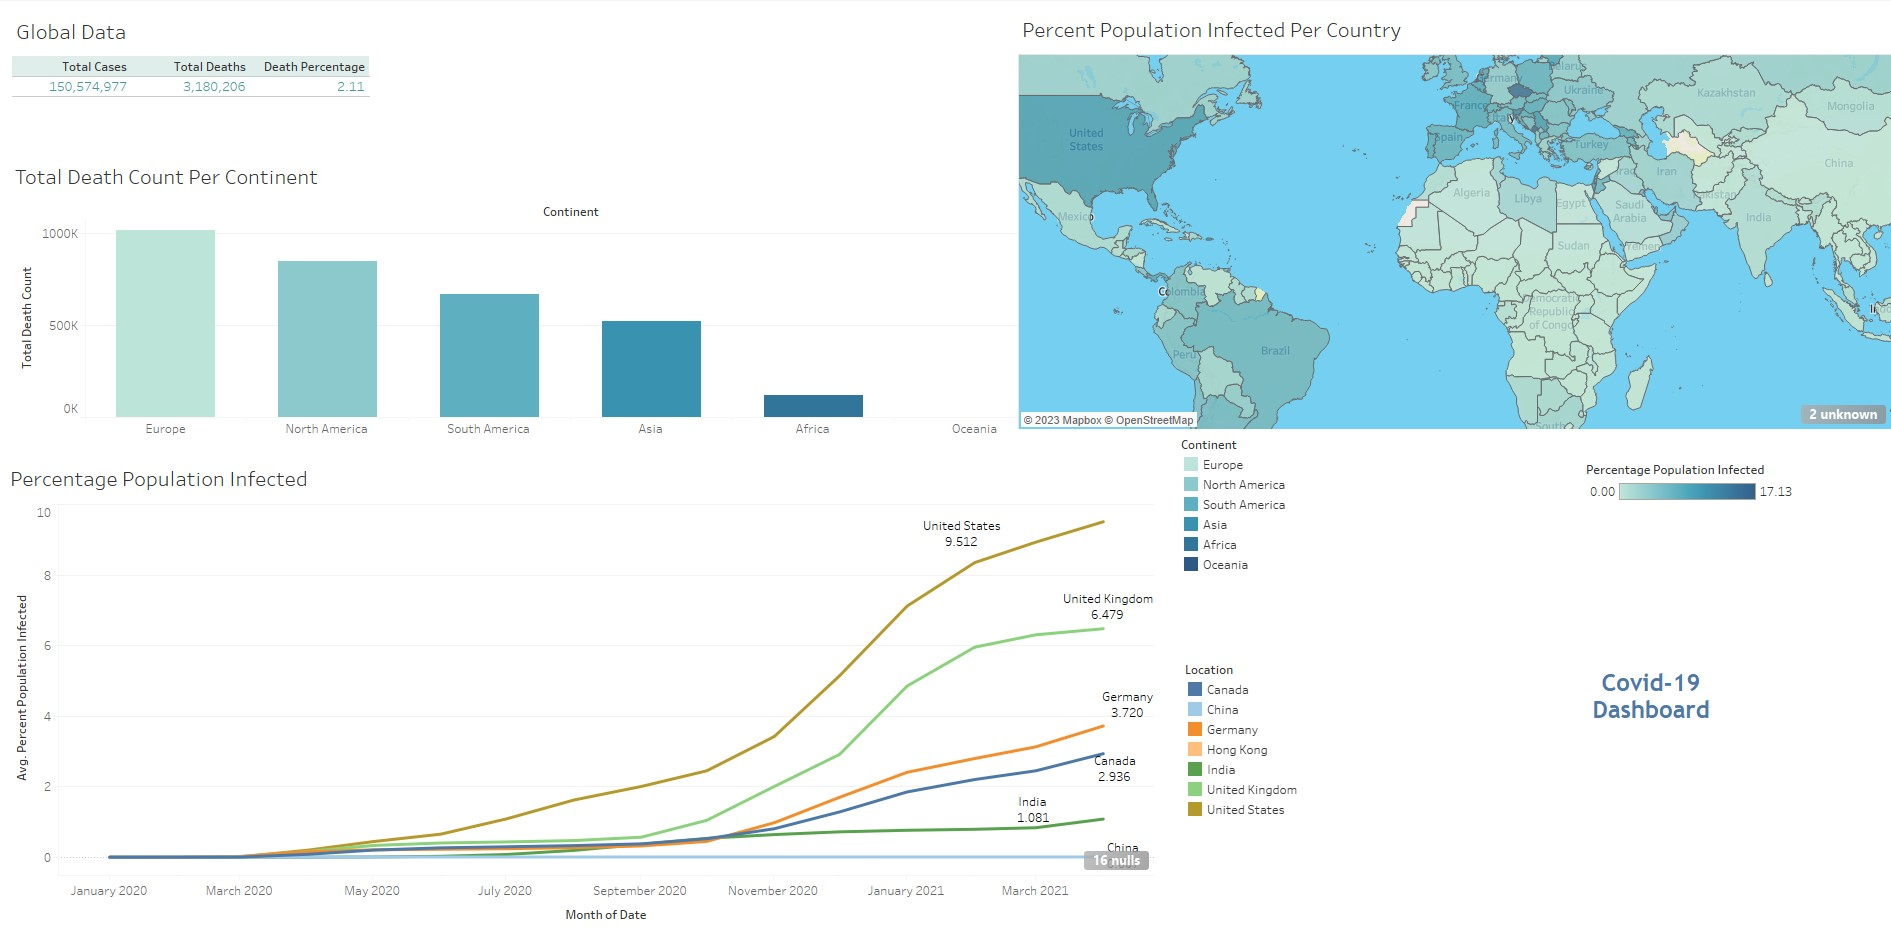

Layout of this report page (visuals, bound fields, positions):
{"tool":"tableau","page":{"name":"Dashboard 1","canvas":[1000,1000],"units":"permille","ordinal":0},"visuals":[{"type":"worksheet","title":"Sheet 3","mark":"Automatic","box":[537.5,10.3,461.7,449.4]},{"type":"worksheet","title":"Sheet 1","mark":"Automatic","box":[6.4,13.7,493.6,972.6]},{"type":"text","box":[500,13.7,493.6,486.3]},{"type":"worksheet","title":"Sheet 2","mark":"Automatic","rows":["TotalDeathCount"],"cols":["Location"],"box":[5.6,168.1,551.8,320.8]},{"type":"legend","title":"Sheet 2","param":"[federated.1daz0we0n0yftz12i422x116sth0].[none:Location:nk]","box":[623.6,466.6,111.6,236.7]},{"type":"worksheet","title":"Sheet 4","mark":"Automatic","rows":["PercentPopulationInfected"],"cols":["date"],"box":[3.2,492.3,606.1,504.3]},{"type":"legend","title":"Sheet 3","param":"[federated.15uz85k0sgy36q12mxshn1qhqs8f].[sum:HighestPercentInfectionRate:qk]","box":[837.3,494,111.6,130.4]},{"type":"text","box":[500,500,246.8,486.3]},{"type":"text","box":[746.8,500,246.8,486.3]},{"type":"legend","title":"Sheet 4","param":"[federated.12iibyj0g284g71eeyxrd0nkf62b].[none:Location:nk]","box":[625.8,708.4,112.2,271]}]}

Visuals, with their boxes on the dashboard's canvas, which has no fixed pixel size, in thousandths of its width and height (x1, y1, x2, y2). These are canvas units, not pixel positions in the 1891x931 screenshot, which may show the page scaled, cropped or inside an application window:
"Sheet 3" worksheet: x1=538, y1=10, x2=999, y2=460
"Sheet 1" worksheet: x1=6, y1=14, x2=500, y2=986
text: x1=500, y1=14, x2=994, y2=500
"Sheet 2" worksheet: x1=6, y1=168, x2=557, y2=489
"Sheet 2" legend: x1=624, y1=467, x2=735, y2=703
"Sheet 4" worksheet: x1=3, y1=492, x2=609, y2=997
"Sheet 3" legend: x1=837, y1=494, x2=949, y2=624
text: x1=500, y1=500, x2=747, y2=986
text: x1=747, y1=500, x2=994, y2=986
"Sheet 4" legend: x1=626, y1=708, x2=738, y2=979
